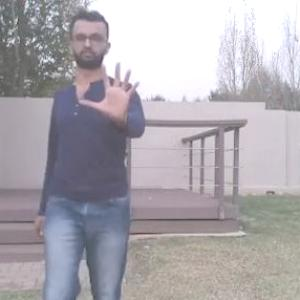follow_hand: (77, 56, 142, 123)
